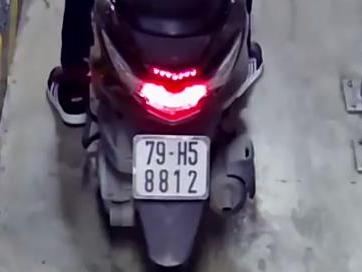num_plate: (129, 134, 210, 200)
